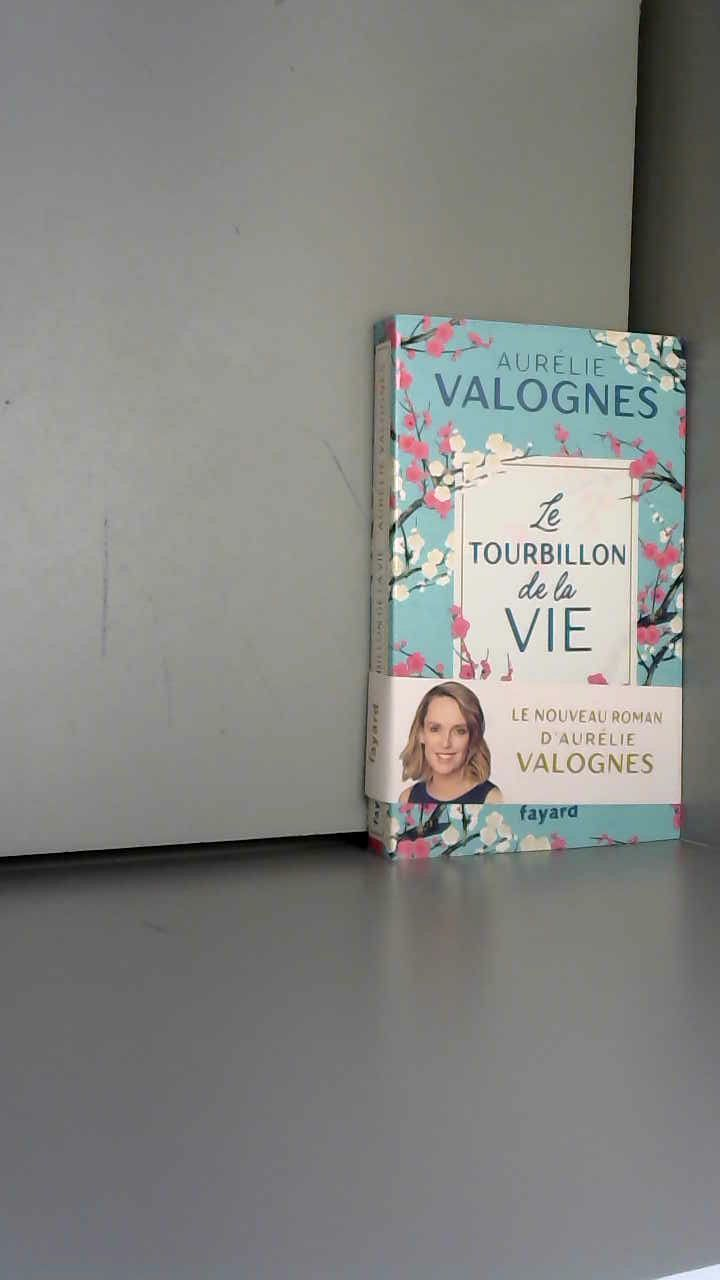book: (330, 290, 718, 911)
